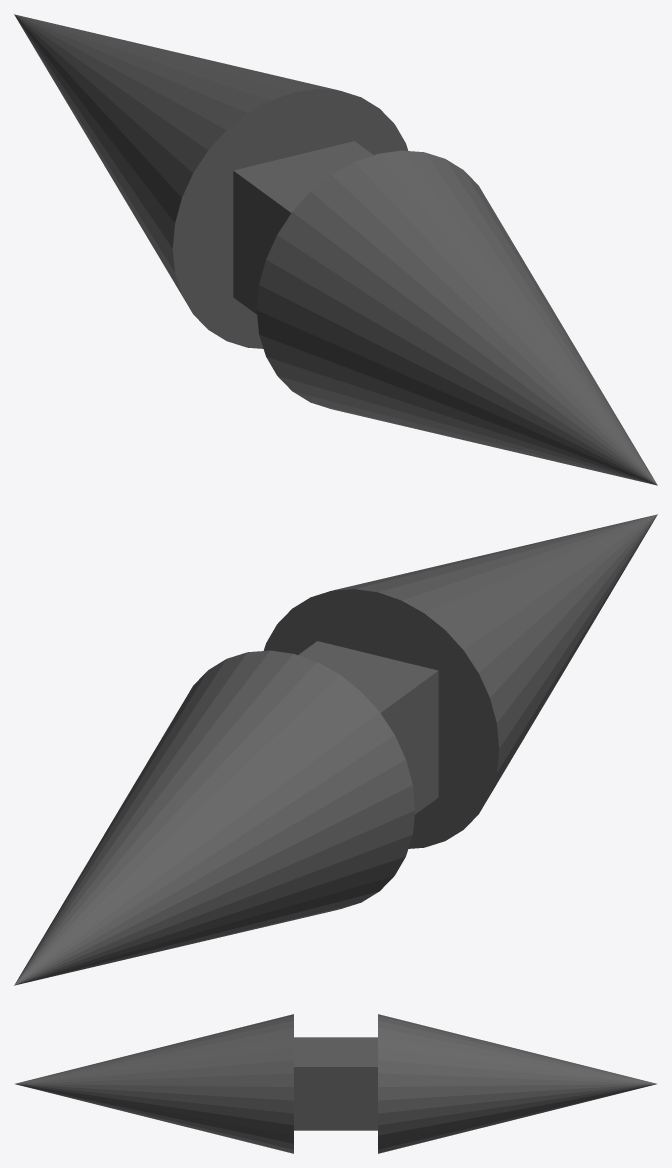
The model's file is enemy_R_spear.obj.
The picture shows the model from 3 angles, top to bottom: view 1: azimuth 30°, elevation 25°; view 2: azimuth 150°, elevation 25°; view 3: azimuth 270°, elevation 25°; orthographic projection. The views are drawn at different scales.
Visible parts, largest first — view 1: spear_R; view 2: spear_R; view 3: spear_R.
Part boxes in pixels (bbox=[...]): spear_R: bbox=[14, 14, 657, 485]; spear_R: bbox=[14, 514, 657, 985]; spear_R: bbox=[15, 1014, 656, 1153].
Size of the model in its own units: 1 by 1 by 4.6.
